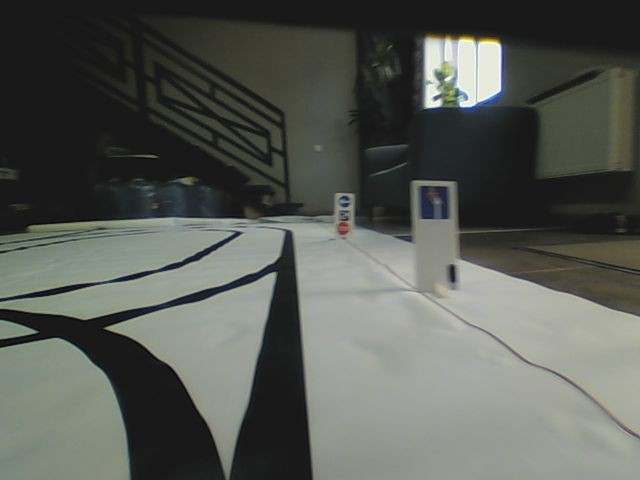Stop: (335, 222, 351, 234)
priority_movement: (417, 184, 452, 223)
